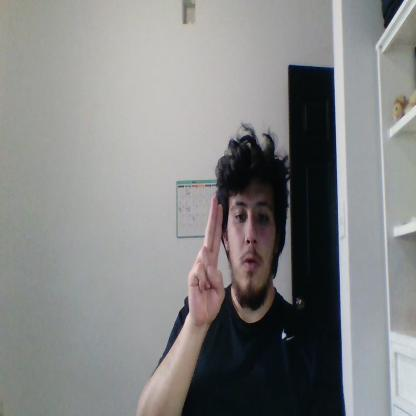U: (188, 196, 226, 324)
